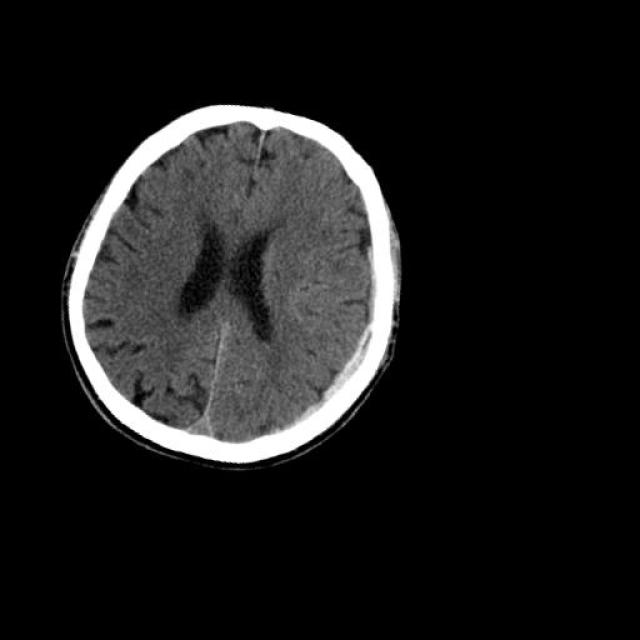Subdural: (257, 294, 405, 496)
